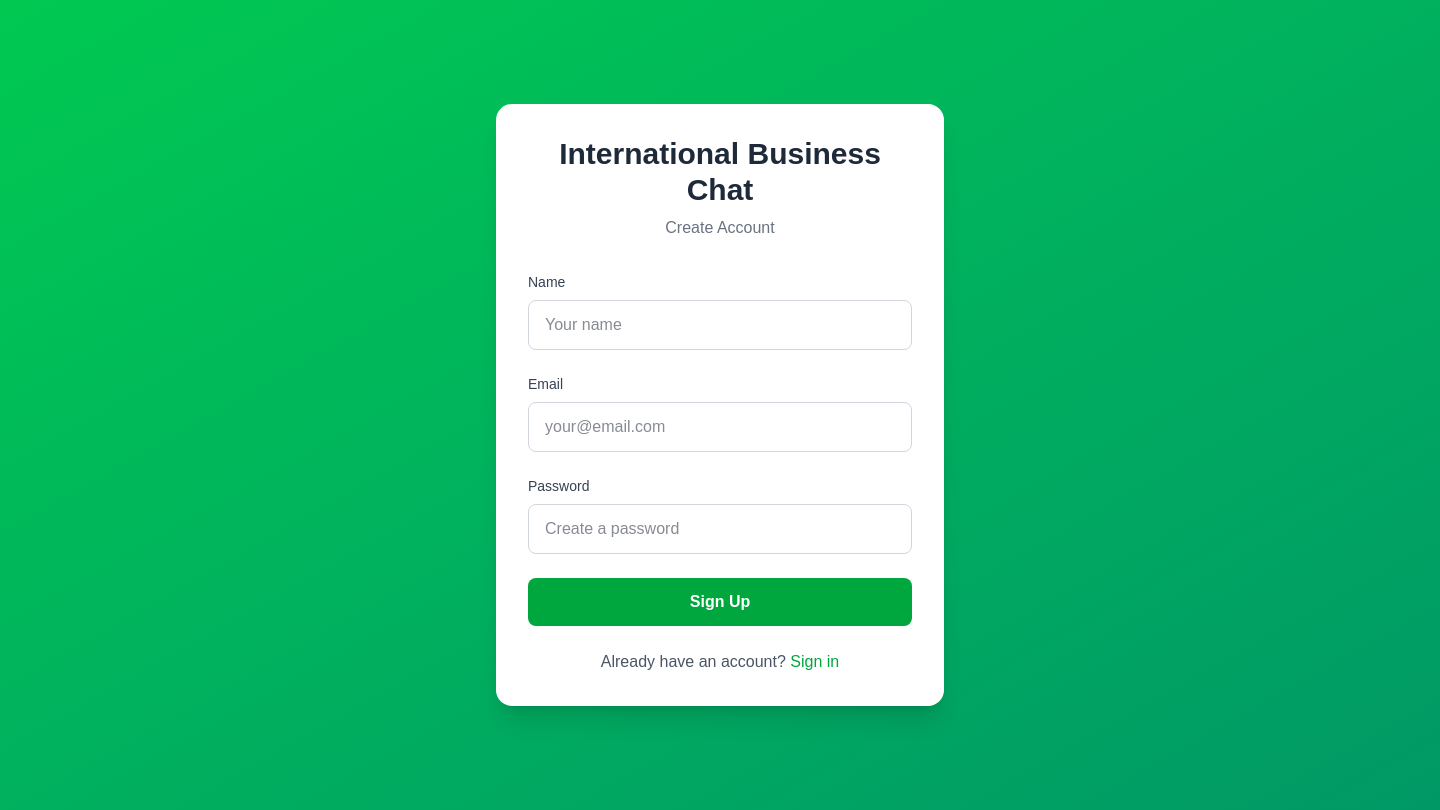
Test: RegisterPage › shows error message on failed registration
Type "Test" into the field with placeholder "Your name". click: [720, 325]
box: x1=528 y1=300 x2=912 y2=350
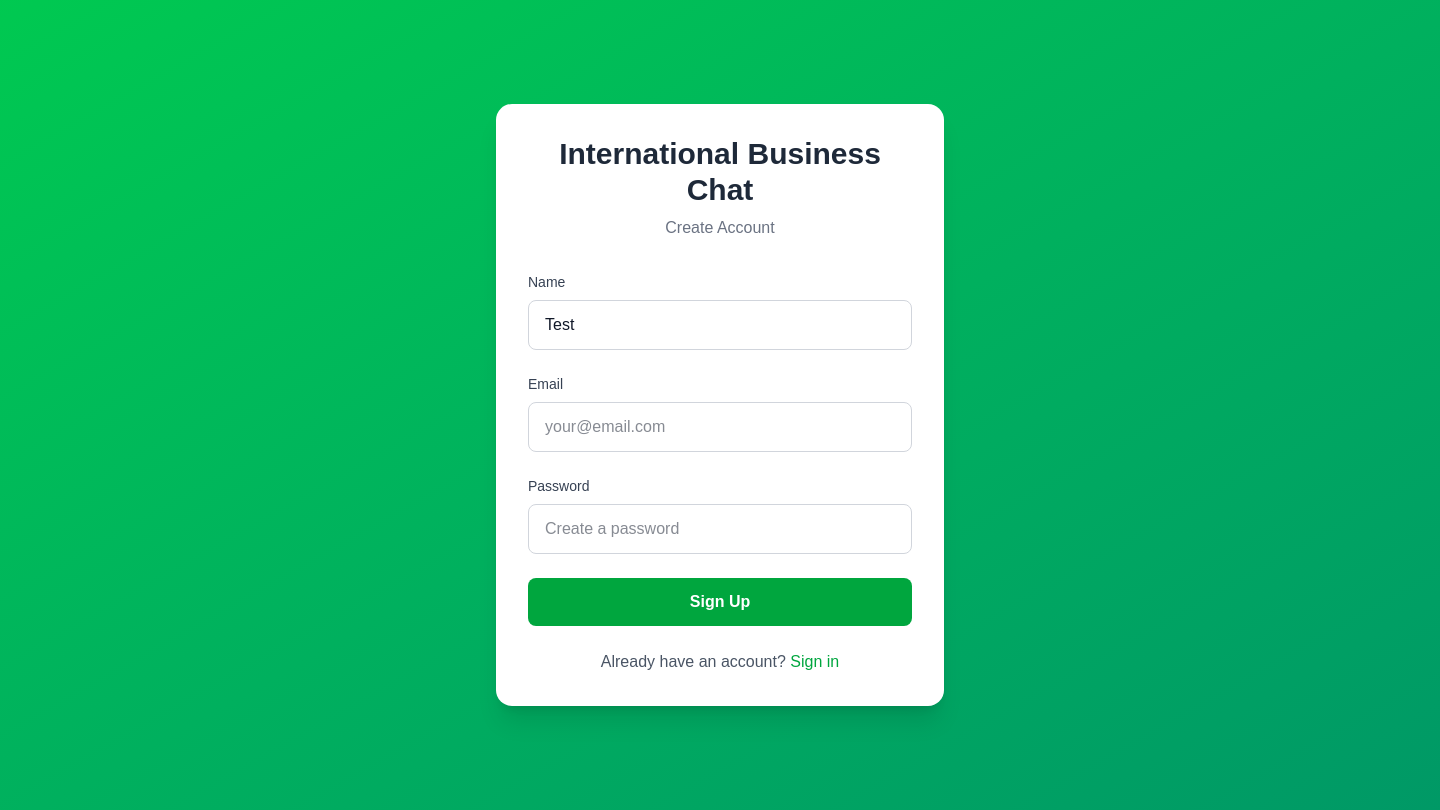
Type "existing@example.com" into the field with placeholder "your@email.com". click: [720, 427]
box: x1=528 y1=402 x2=912 y2=452
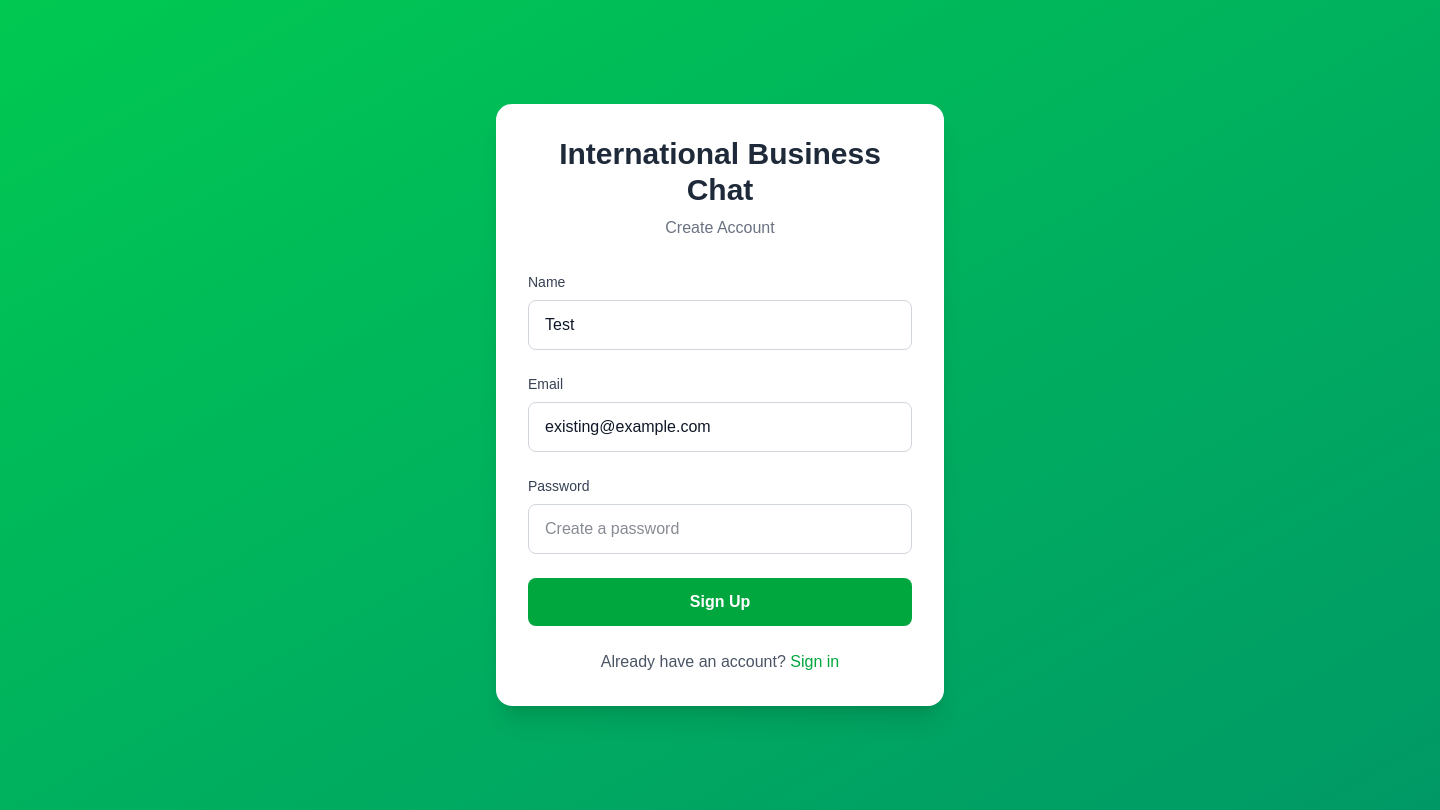
Type "password123" into the password field with placeholder "Create a password". click: [720, 529]
box: x1=528 y1=504 x2=912 y2=554
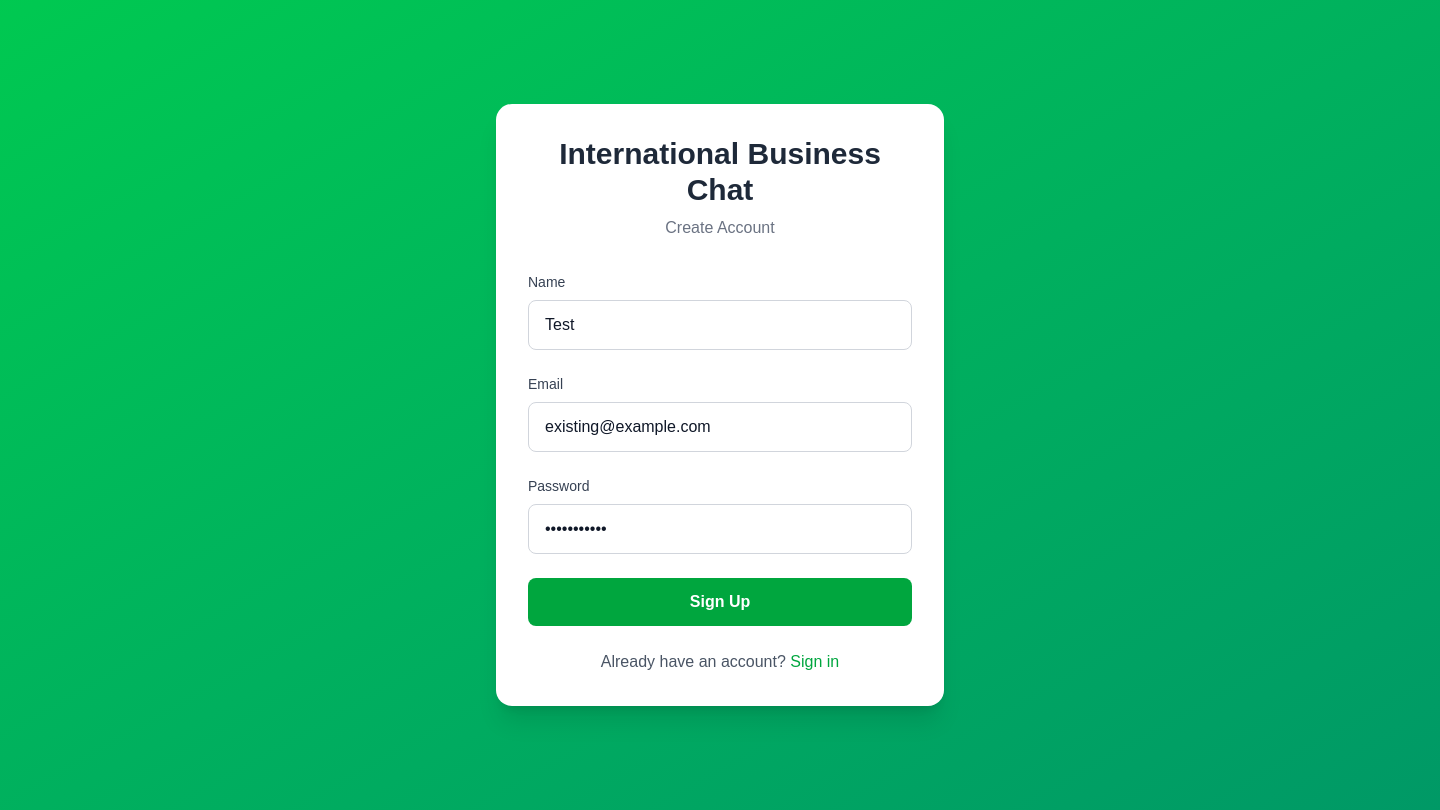
Click the button "Sign Up". click: [720, 602]
box: x1=528 y1=578 x2=912 y2=626
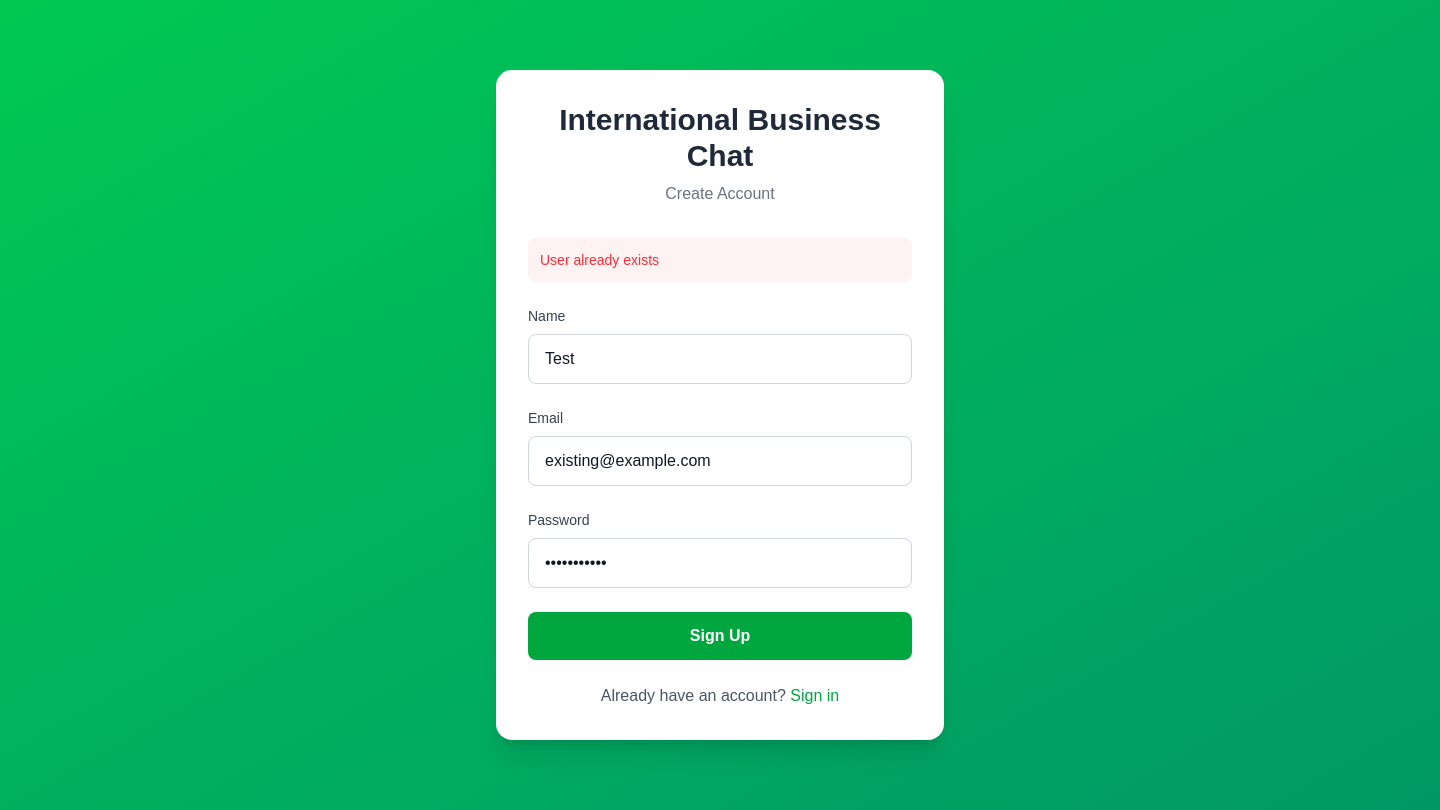
Check: the text "User already exists" is shown, box x1=528 y1=238 x2=912 y2=282
